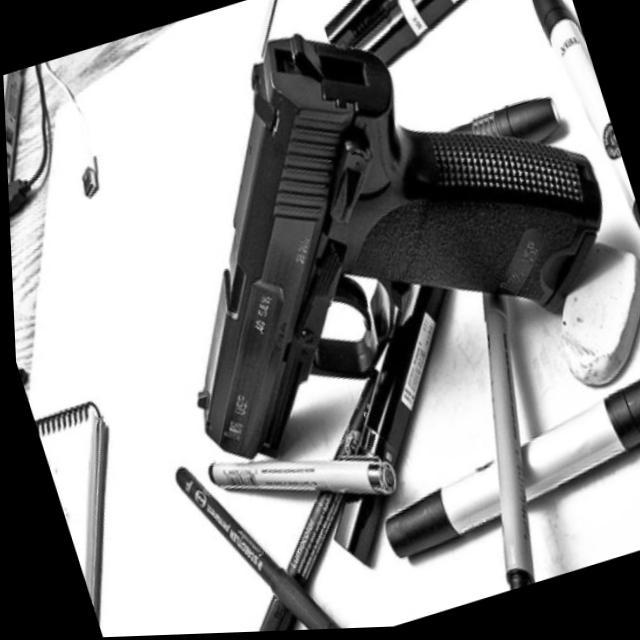weapon: (90, 0, 640, 481)
